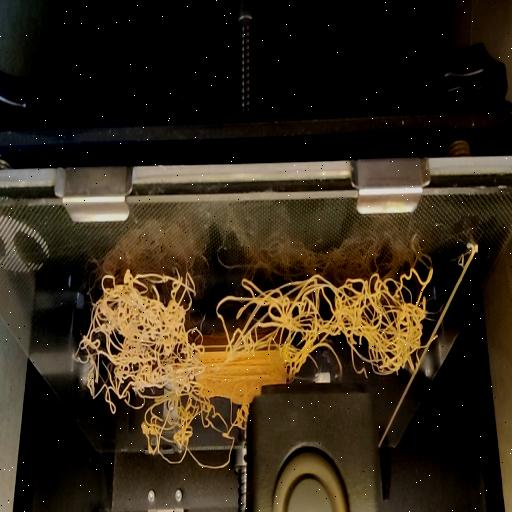spaghetti: (74, 256, 440, 382), (84, 382, 250, 474)
